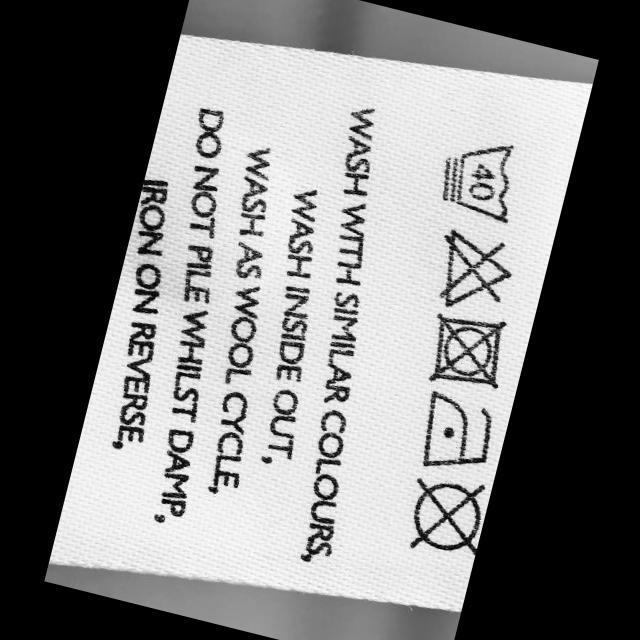40C: (429, 124, 528, 226)
DN_bleach: (424, 226, 522, 322)
DN_dry_clean: (398, 466, 491, 566)
DN_tumble_dry: (418, 303, 516, 400)
iron_low: (410, 387, 502, 484)
